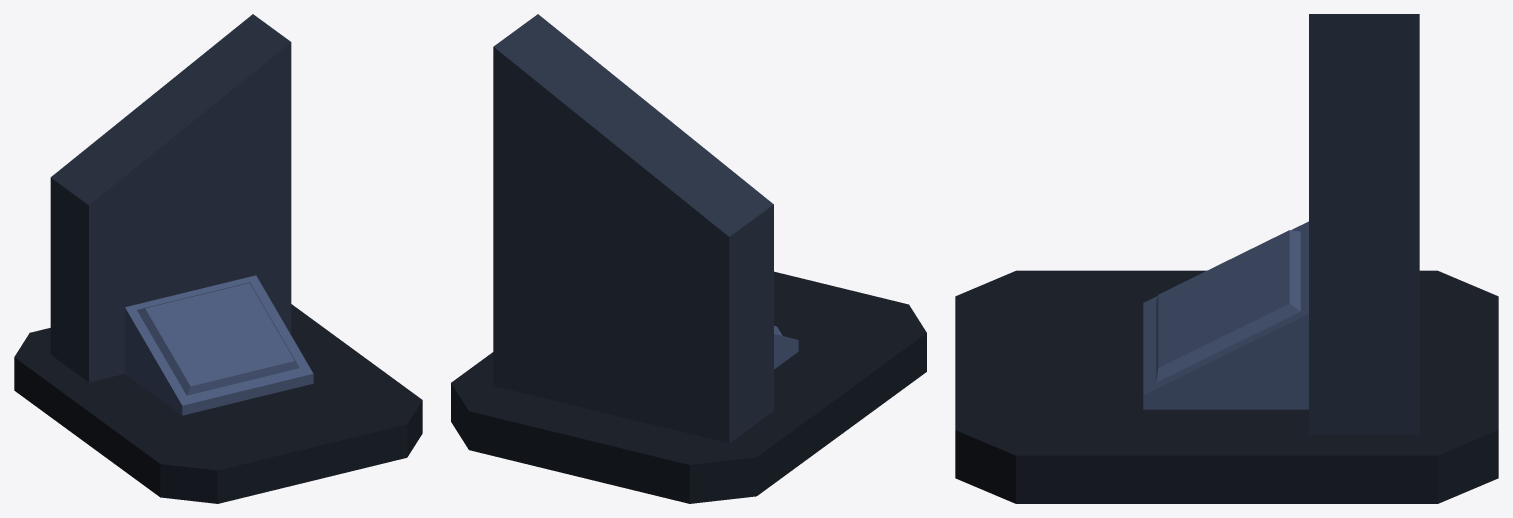
Rendered from grave7.FBX.
The picture shows the model from 3 angles, left to right: view 1: azimuth 30°, elevation 25°; view 2: azimuth 150°, elevation 25°; view 3: azimuth 270°, elevation 25°; orthographic projection. The views are drawn at different scales.
Parts seen in each view (by area): view 1: grave7; view 2: grave7; view 3: grave7.
Boxes of the visible parts, x1,y1,x2,y2 form: grave7: (14, 14, 422, 503); grave7: (451, 14, 926, 503); grave7: (955, 14, 1498, 503).
Bounding box in the file's own units: 12.48 × 14.76 × 15.5.
